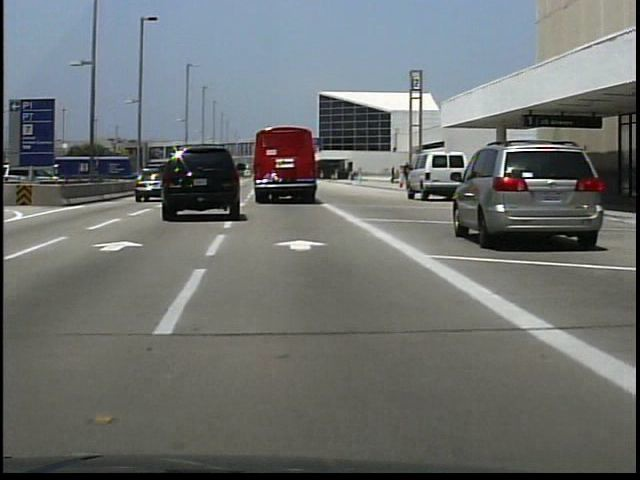person: (402, 161, 413, 195)
